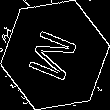M_E: (25, 24, 85, 86)
